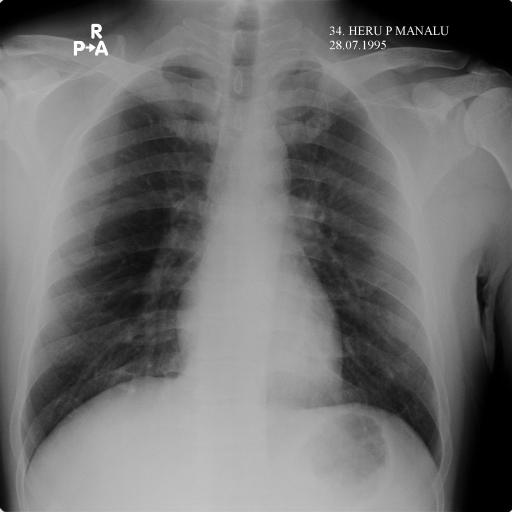normal: (16, 23, 450, 483)
